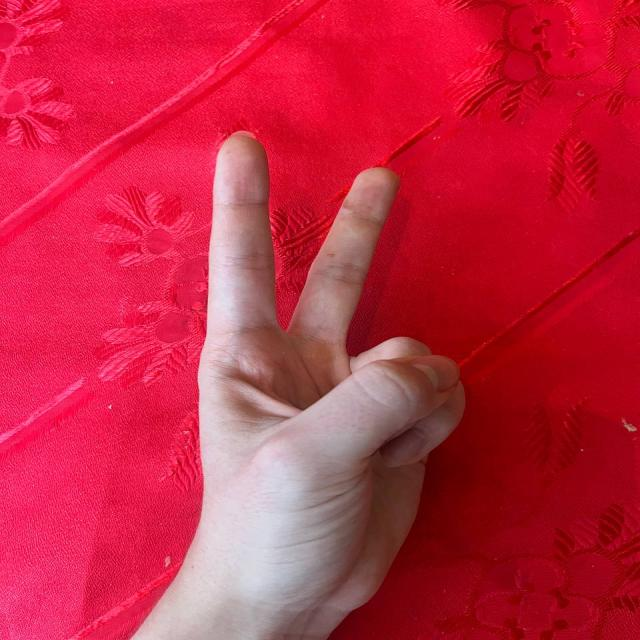k: (189, 122, 458, 608)
